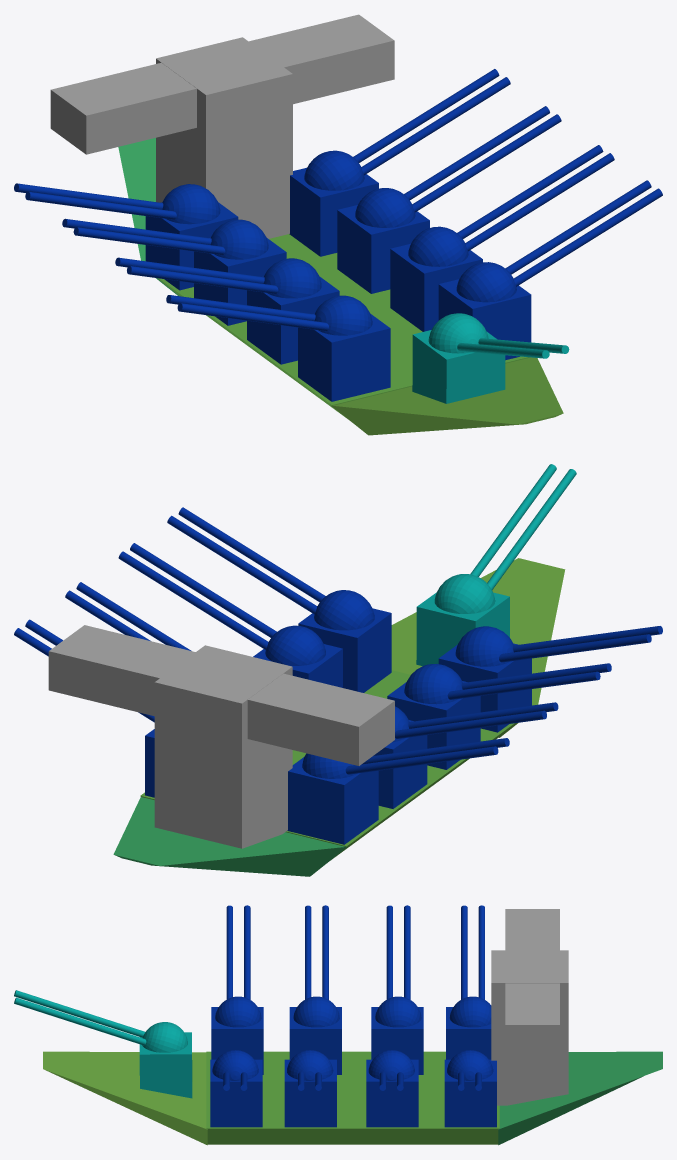
3 renders of one model, top to bottom at view 1: azimuth 30°, elevation 25°; view 2: azimuth 150°, elevation 25°; view 3: azimuth 270°, elevation 25°, orthographic. The views are drawn at different scales.
Parts seen in each view (by area): view 1: 柱体.000_柱体.006, 柱体.001, 立方体.003_立方体.004, 立方体.004_立方体.005, 立方体.001, 柱体.004_柱体.005, 立方体, 立方体.002; view 2: 柱体.001, 立方体.003_立方体.004, 柱体.000_柱体.006, 立方体.004_立方体.005, 柱体.004_柱体.005, 立方体.002, 立方体.001, 立方体; view 3: 柱体.001, 柱体.000_柱体.006, 立方体, 立方体.003_立方体.004, 立方体.001, 立方体.004_立方体.005, 立方体.002, 柱体.004_柱体.005.
Boxes of the visible parts, bbox=[...] form: 柱体.000_柱体.006: bbox=[289, 69, 662, 360]; 柱体.001: bbox=[14, 183, 390, 401]; 立方体.003_立方体.004: bbox=[156, 37, 292, 238]; 立方体.004_立方体.005: bbox=[50, 14, 394, 154]; 立方体.001: bbox=[331, 357, 563, 435]; 柱体.004_柱体.005: bbox=[412, 313, 569, 403]; 立方体: bbox=[158, 234, 530, 417]; 立方体.002: bbox=[118, 138, 179, 296]; 柱体.001: bbox=[287, 626, 662, 844]; 立方体.003_立方体.004: bbox=[154, 645, 292, 848]; 柱体.000_柱体.006: bbox=[14, 507, 391, 797]; 立方体.004_立方体.005: bbox=[48, 625, 394, 765]; 柱体.004_柱体.005: bbox=[416, 464, 576, 666]; 立方体.002: bbox=[113, 797, 347, 876]; 立方体.001: bbox=[391, 558, 565, 737]; 立方体: bbox=[140, 670, 534, 859]; 柱体.001: bbox=[211, 905, 491, 1074]; 柱体.000_柱体.006: bbox=[210, 1050, 496, 1127]; 立方体: bbox=[206, 1051, 499, 1144]; 立方体.003_立方体.004: bbox=[491, 950, 568, 1105]; 立方体.001: bbox=[43, 1051, 207, 1145]; 立方体.004_立方体.005: bbox=[505, 909, 559, 1054]; 立方体.002: bbox=[498, 1051, 662, 1145]; 柱体.004_柱体.005: bbox=[14, 990, 192, 1098].
Bounding box in the file's own units: 25.79 × 10.26 × 39.12.
